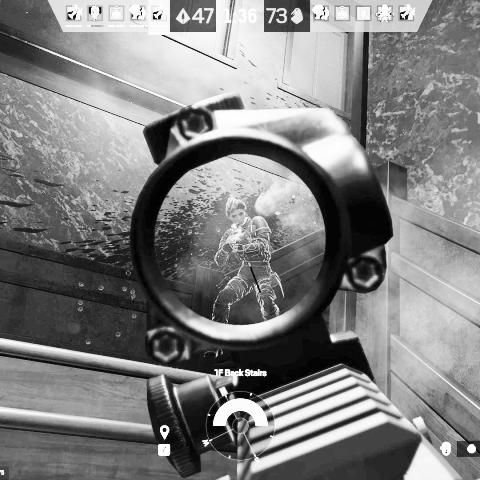Character: (211, 197, 284, 329)
Head: (223, 196, 248, 223)
